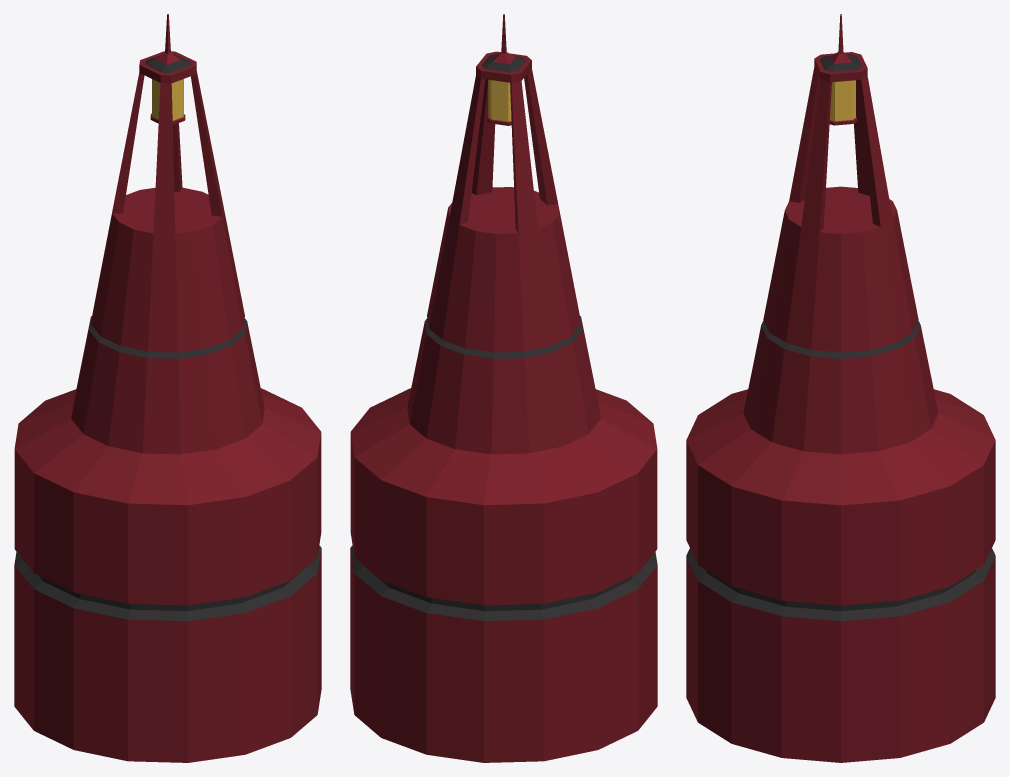
The model's file is Buoy_V1.0.fbx.
3 views of the same model, side by side, from view 1: azimuth 30°, elevation 25°; view 2: azimuth 150°, elevation 25°; view 3: azimuth 270°, elevation 25° (orthographic).
Parts seen in each view (by area): view 1: Main, Secondary, Lights; view 2: Main, Secondary, Lights; view 3: Main, Secondary, Lights.
Boxes of the visible parts, bbox=[...] form: Main: bbox=[14, 14, 321, 762]; Secondary: bbox=[14, 53, 321, 621]; Lights: bbox=[152, 79, 183, 120]; Main: bbox=[350, 14, 657, 762]; Secondary: bbox=[350, 53, 657, 621]; Lights: bbox=[488, 79, 511, 121]; Main: bbox=[686, 14, 995, 762]; Secondary: bbox=[686, 54, 995, 621]; Lights: bbox=[830, 80, 855, 121].
Bounding box in the file's own units: 200 × 487 × 200.
